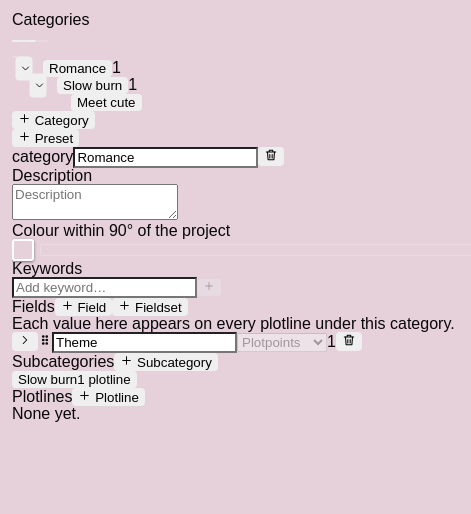
Test: field editing › a category's editor lists its own fields and their values
expect the field named "Field name" holds "Theme": met, box [52, 332, 237, 353]
Click the button named "Expand" at (25, 342), box [12, 332, 38, 351]
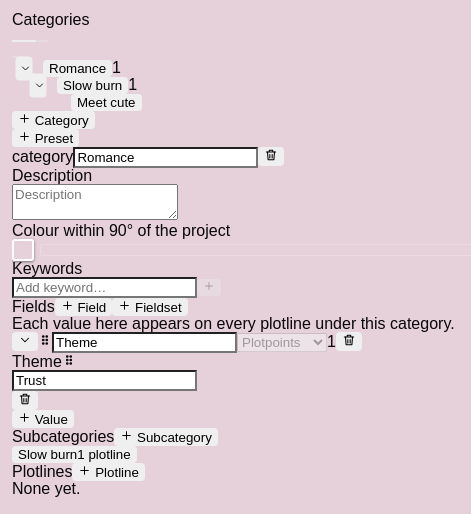
expect the field named "Theme value title" holds "Trust": met, box [12, 370, 197, 391]
